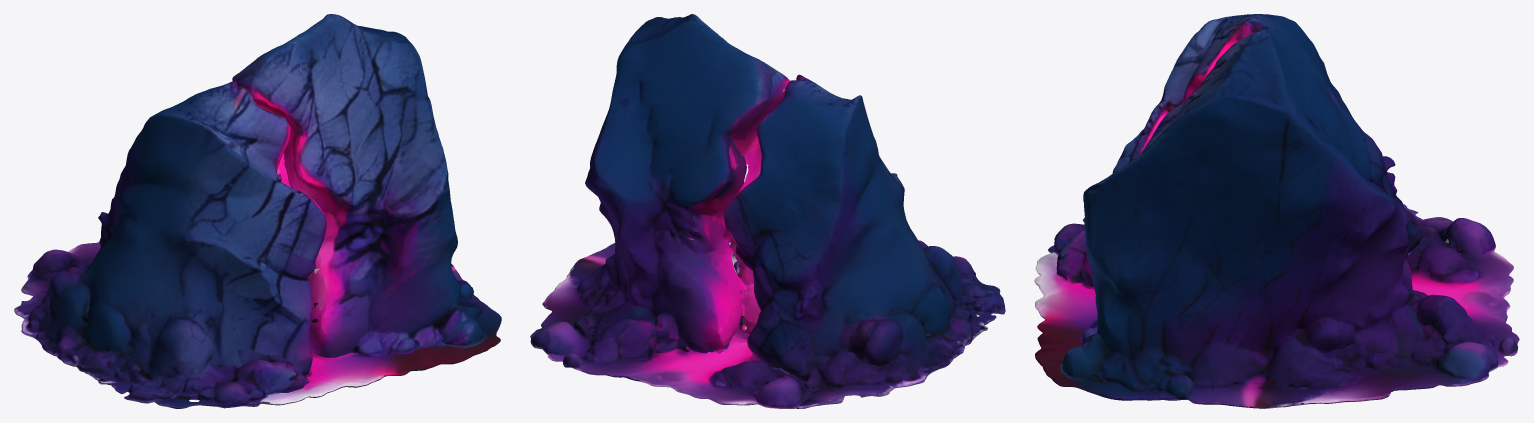
File: shore-stone-11-generated-2026-05-17T20-22-40-414Z.high.glb
The picture shows the model from 3 angles, left to right: view 1: azimuth 30°, elevation 25°; view 2: azimuth 150°, elevation 25°; view 3: azimuth 270°, elevation 25°; orthographic projection. The views are drawn at different scales.
Visible parts, largest first — view 1: temp_mesh.ply; view 2: temp_mesh.ply; view 3: temp_mesh.ply.
Part boxes in pixels (box(x1,y1,x2,y2)): temp_mesh.ply: box(14, 14, 501, 408); temp_mesh.ply: box(530, 14, 1005, 408); temp_mesh.ply: box(1034, 14, 1519, 408).
Bounding box in the file's own units: 1.97 × 1.35 × 1.89.
Materials: 1 (1 with a texture image).
